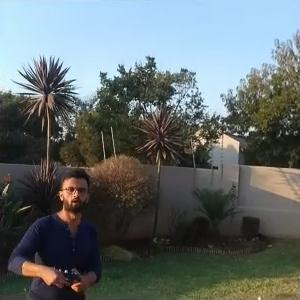follow: (4, 161, 108, 298)
